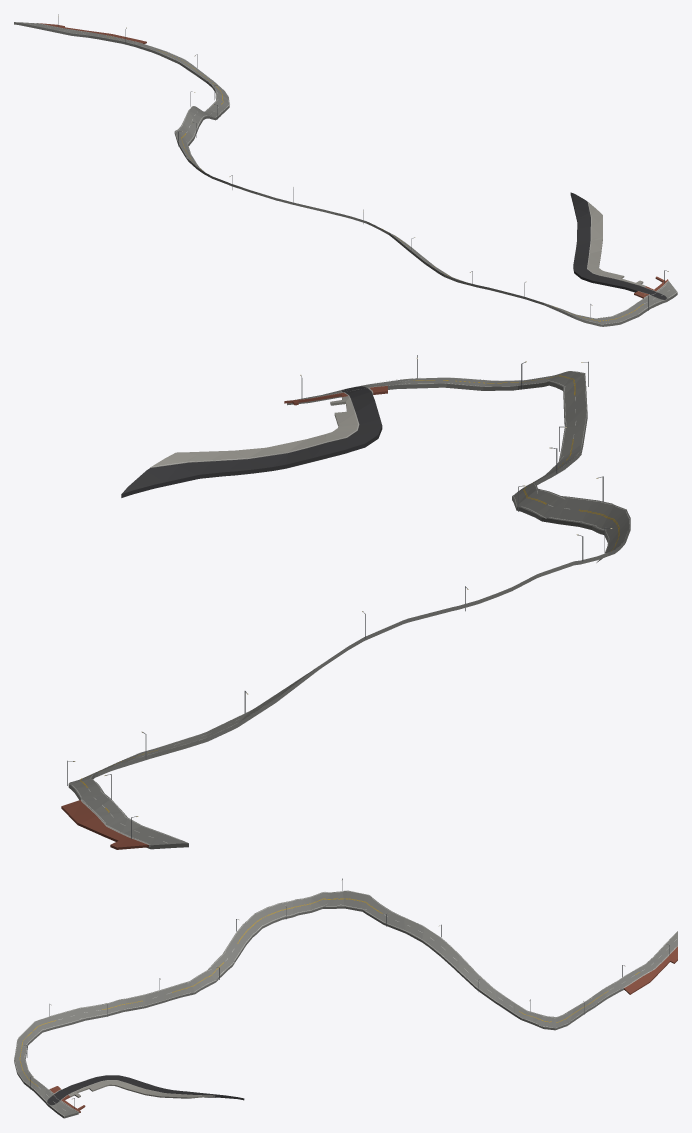
The picture shows the model from 3 angles, top to bottom: view 1: azimuth 30°, elevation 25°; view 2: azimuth 150°, elevation 25°; view 3: azimuth 270°, elevation 25°; orthographic projection. The views are drawn at different scales.
Bounding box in the file's own units: 177 × 61.84 × 360.
